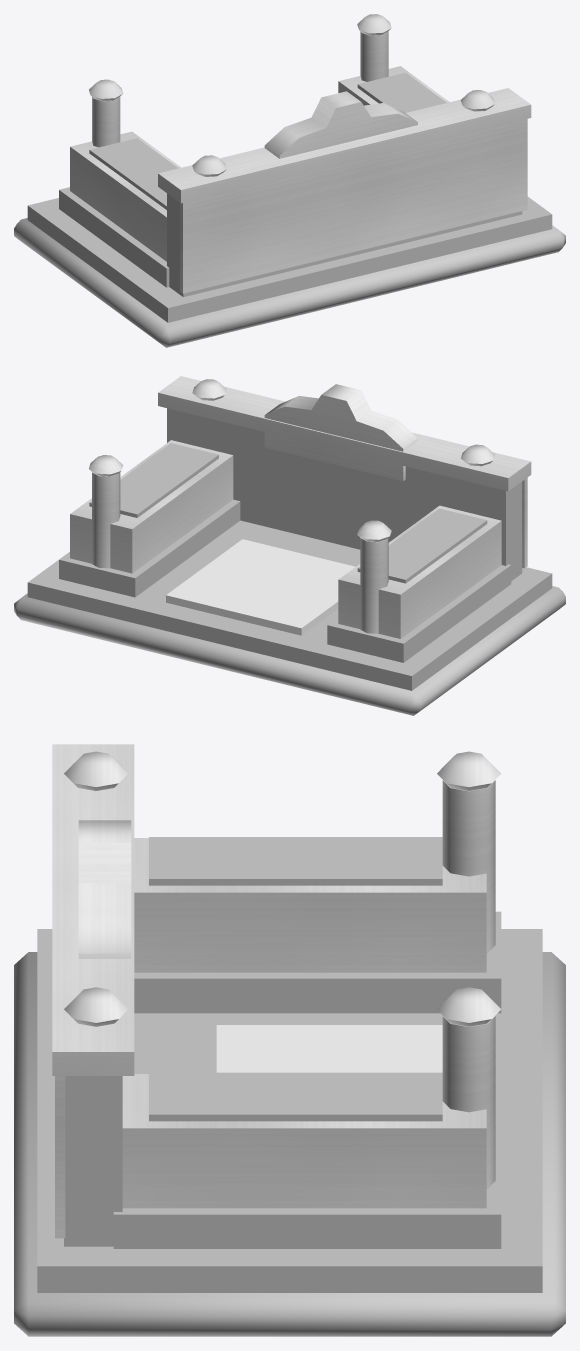
File: reliquary.obj
3 renders of one model, top to bottom at view 1: azimuth 30°, elevation 25°; view 2: azimuth 150°, elevation 25°; view 3: azimuth 270°, elevation 25°, orthographic. The views are drawn at different scales.
Parts seen in each view (by area): view 1: source_component_003, source_component_000, source_component_001, source_component_004, source_component_006, source_component_019, source_component_005, source_component_007, source_component_002, source_component_014, source_component_017, source_component_010 (+5 smaller); view 2: source_component_002, source_component_001, source_component_000, source_component_020, source_component_004, source_component_006, source_component_013, source_component_019, source_component_005, source_component_012, source_component_007, source_component_014 (+7 smaller); view 3: source_component_001, source_component_000, source_component_013, source_component_006, source_component_004, source_component_012, source_component_005, source_component_014, source_component_007, source_component_020, source_component_002, source_component_019 (+7 smaller).
Boxes of the visible parts, x1,y1,x2,y2 form: source_component_003: (180, 119, 527, 293); source_component_000: (14, 218, 565, 347); source_component_001: (27, 197, 552, 322); source_component_004: (158, 88, 531, 203); source_component_006: (70, 131, 180, 261); source_component_019: (264, 91, 417, 158); source_component_005: (59, 187, 169, 287); source_component_007: (89, 138, 178, 209); source_component_002: (167, 193, 522, 297); source_component_014: (357, 72, 446, 112); source_component_017: (360, 31, 388, 81); source_component_010: (92, 97, 120, 147); source_component_002: (167, 408, 522, 580); source_component_001: (27, 520, 552, 690); source_component_000: (14, 586, 565, 715); source_component_020: (166, 539, 355, 635); source_component_004: (158, 376, 531, 491); source_component_006: (338, 505, 501, 638); source_component_013: (70, 440, 233, 573); source_component_019: (264, 384, 417, 480); source_component_005: (327, 564, 511, 662); source_component_012: (59, 499, 240, 597); source_component_007: (357, 508, 487, 583); source_component_014: (89, 443, 218, 517); source_component_001: (37, 929, 542, 1292); source_component_000: (14, 952, 565, 1336); source_component_013: (122, 1074, 486, 1208); source_component_006: (134, 838, 486, 972); source_component_004: (52, 744, 134, 1075); source_component_012: (113, 1147, 501, 1248); source_component_005: (134, 911, 501, 1013); source_component_014: (149, 1072, 442, 1121); source_component_007: (149, 837, 442, 885); source_component_020: (216, 1025, 442, 1072); source_component_002: (64, 1076, 122, 1246); source_component_019: (78, 820, 131, 958).
Size of the model in its own units: 2.88 by 1.25 by 1.88.
